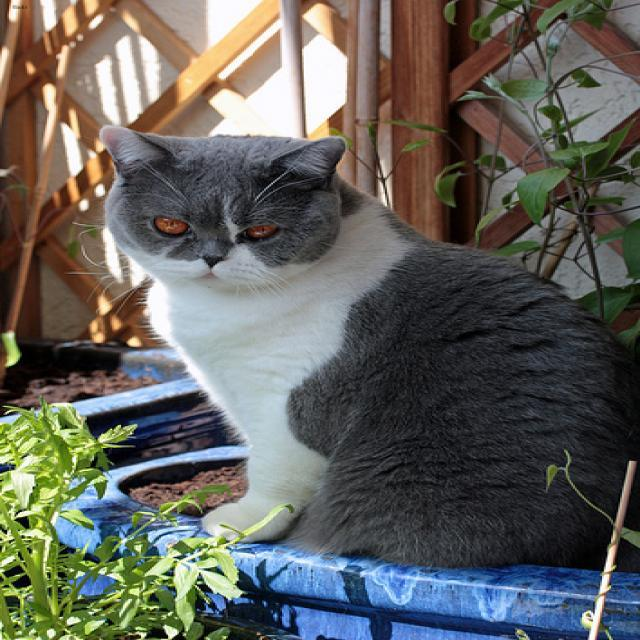British_Shorthair: (96, 123, 343, 289)
